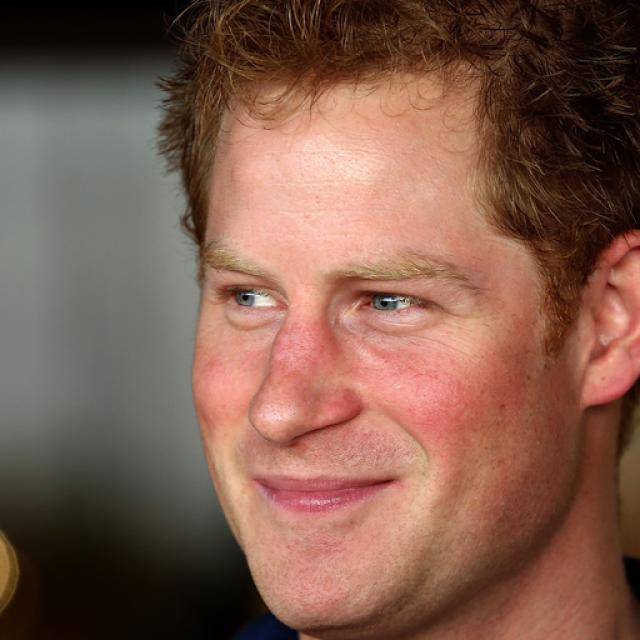Pigmentation: (270, 319, 361, 417)
Wrinkle: (282, 203, 396, 215), (276, 175, 386, 187)
